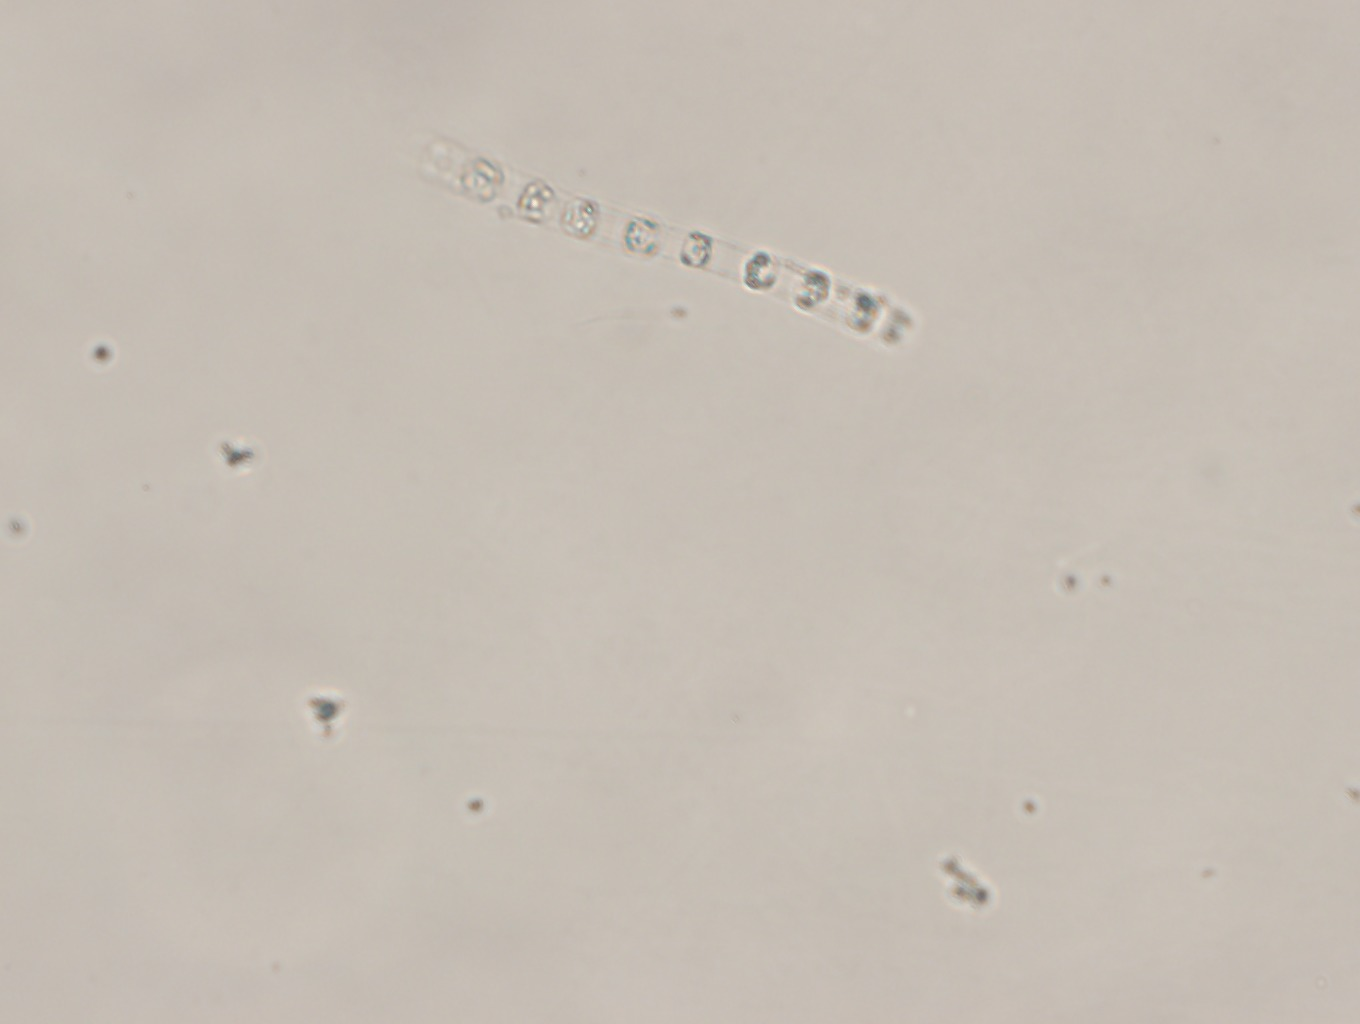skeletonema: (406, 114, 947, 375)
